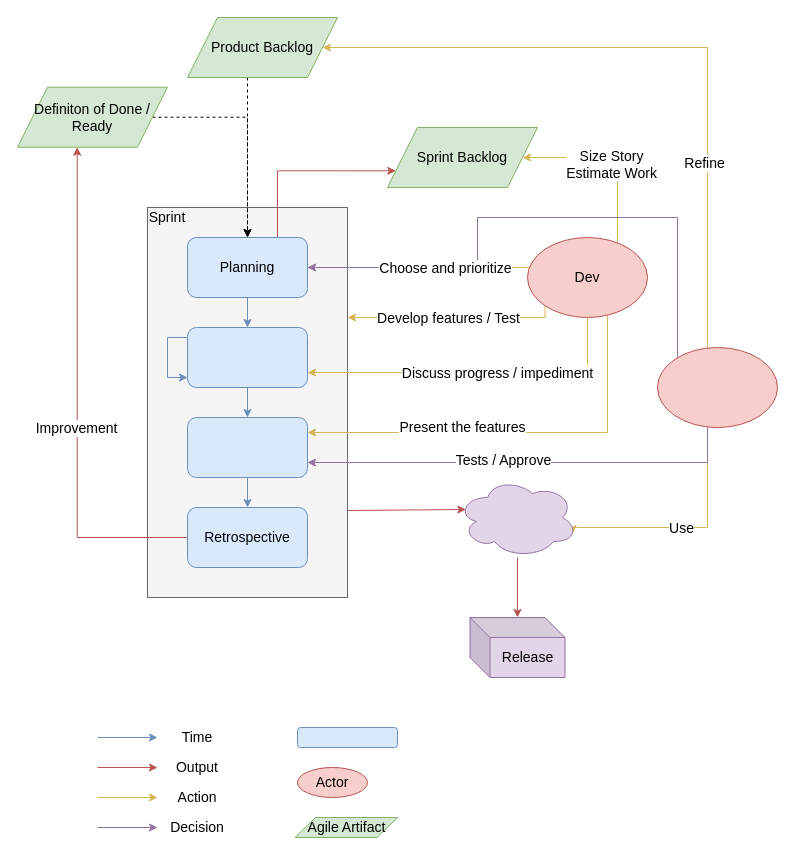
Some shapes in this 795 by 855 pixel diagram are drawn without their labels. The centre of each missing label's shape, as x and y in pixels:
"Agile Event" belongs at pixel 347 737.
"Business" belongs at pixel 717 387.
"Daily" belongs at pixel 247 357.
"Product" belongs at pixel 517 517.
"Review" belongs at pixel 247 447.
